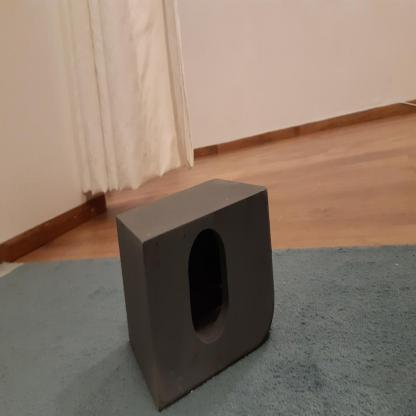CornerCasting: (115, 173, 277, 401)
